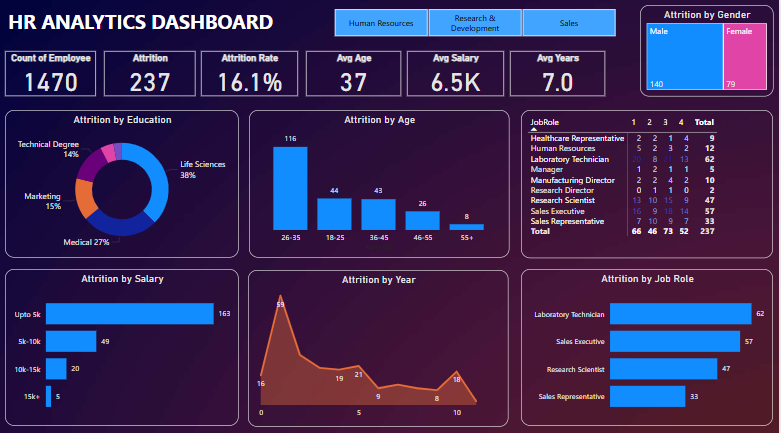

This screenshot's page, from the dashboard's own definition file:
{"tool":"powerbi","page":{"name":"Page 1","canvas":[1280,720],"ordinal":0},"visuals":[{"type":"card","title":"Count of Employee","fields":{"Values":["CountNonNull(HR_Analytics.EmpID)"]},"box":[10,87.1,148.6,74.3],"z":0},{"type":"card","title":"Attrition","fields":{"Values":["Sum(HR_Analytics.AttritionCount)"]},"box":[171.4,87.1,150,74.3],"z":1000},{"type":"card","title":"Attrition Rate","fields":{"Values":["HR_Analytics.AttritionRate"]},"box":[331.4,87.1,158.6,74.3],"z":2000},{"type":"card","title":"Avg Age","fields":{"Values":["Avg(HR_Analytics.Age)"]},"box":[502.9,87.1,155.7,74.3],"z":3000},{"type":"card","title":"Avg Salary","fields":{"Values":["Avg(HR_Analytics.MonthlyIncome)"]},"box":[668.6,87.1,158.6,74.3],"z":4000},{"type":"card","title":"Avg Years","fields":{"Values":["Avg(HR_Analytics.YearsAtCompany)"]},"box":[837.1,87.1,155.7,74.3],"z":5000},{"type":"donutChart","title":"Attrition by Education","fields":{"Category":["HR_Analytics.EducationField"],"Y":["Sum(HR_Analytics.AttritionCount)"]},"box":[10,183.3,383.3,241.7],"z":6000},{"type":"columnChart","title":"Attrition by Age","fields":{"Category":["HR_Analytics.AgeGroup"],"Y":["Sum(HR_Analytics.AttritionCount)"]},"box":[410,183.3,426.7,241.7],"z":7000},{"type":"pivotTable","fields":{"Rows":["HR_Analytics.JobRole"],"Columns":["HR_Analytics.JobSatisfaction"],"Values":["Sum(HR_Analytics.AttritionCount)"]},"box":[855.7,182.9,412.9,242.9],"z":8000},{"type":"clusteredBarChart","title":"Attrition by Salary","fields":{"Category":["HR_Analytics.SalarySlab"],"Y":["Sum(HR_Analytics.AttritionCount)"]},"box":[10,445,383.3,256.7],"z":9000},{"type":"clusteredBarChart","title":"Attrition by Job Role","fields":{"Y":["Sum(HR_Analytics.AttritionCount)"],"Category":["HR_Analytics.JobRole"]},"box":[855,445,413.3,256.7],"z":10000},{"type":"stackedAreaChart","title":"Attrition by Year","fields":{"Category":["HR_Analytics.YearsAtCompany"],"Y":["Sum(HR_Analytics.AttritionCount)"]},"box":[408.6,445.7,427.1,257.1],"z":11000},{"type":"treemap","title":"Attrition by Gender","fields":{"Group":["HR_Analytics.Gender"],"Values":["Sum(HR_Analytics.AttritionCount)"]},"box":[1050,11.4,218.6,150],"z":12000},{"type":"slicer","fields":{"Values":["HR_Analytics.Department"]},"box":[524.3,11.4,510,57.1],"z":13000},{"type":"textbox","box":[10,11.4,458.6,57.1],"z":14000}]}

Visuals, with their boxes in screenshot pixels (x1, y1, x2, y2), scaled from the page's 1280x720 canvas onto the 781x433 screenshot:
"Count of Employee" card: 6,52,97,97
"Attrition" card: 105,52,196,97
"Attrition Rate" card: 202,52,299,97
"Avg Age" card: 307,52,402,97
"Avg Salary" card: 408,52,505,97
"Avg Years" card: 511,52,606,97
"Attrition by Education" donutChart: 6,110,240,256
"Attrition by Age" columnChart: 250,110,511,256
pivotTable - HR_Analytics.JobRole x HR_Analytics.JobSatisfaction: 522,110,774,256
"Attrition by Salary" clusteredBarChart: 6,268,240,422
"Attrition by Job Role" clusteredBarChart: 522,268,774,422
"Attrition by Year" stackedAreaChart: 249,268,510,423
"Attrition by Gender" treemap: 641,7,774,97
slicer - HR_Analytics.Department: 320,7,631,41
textbox: 6,7,286,41
